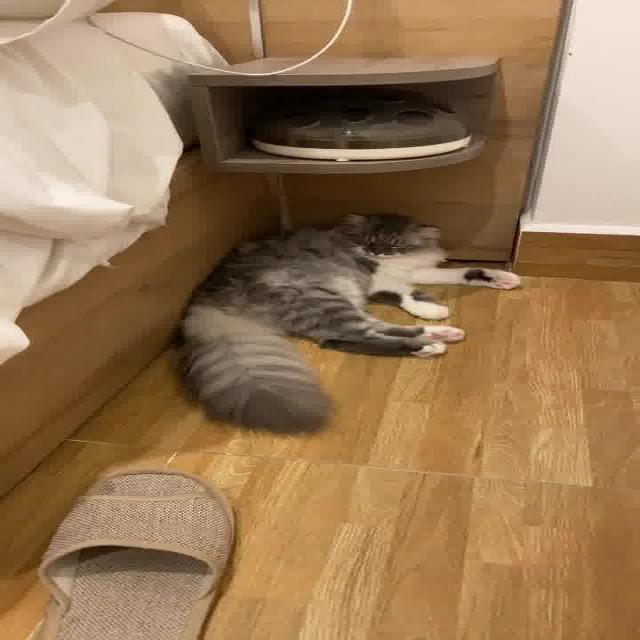cat: (141, 198, 551, 440)
